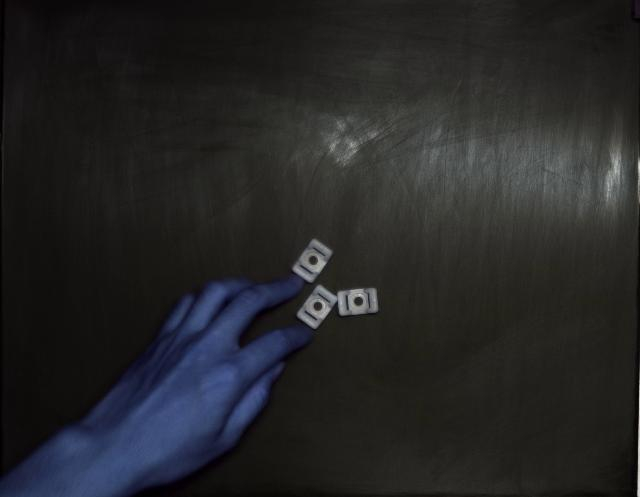first_side: (296, 285, 338, 329), (292, 239, 332, 282), (338, 288, 379, 316)
